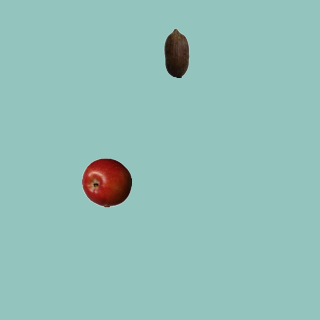Apple Braeburn: (81, 157, 131, 207)
Nut Pecan: (151, 27, 201, 77)
